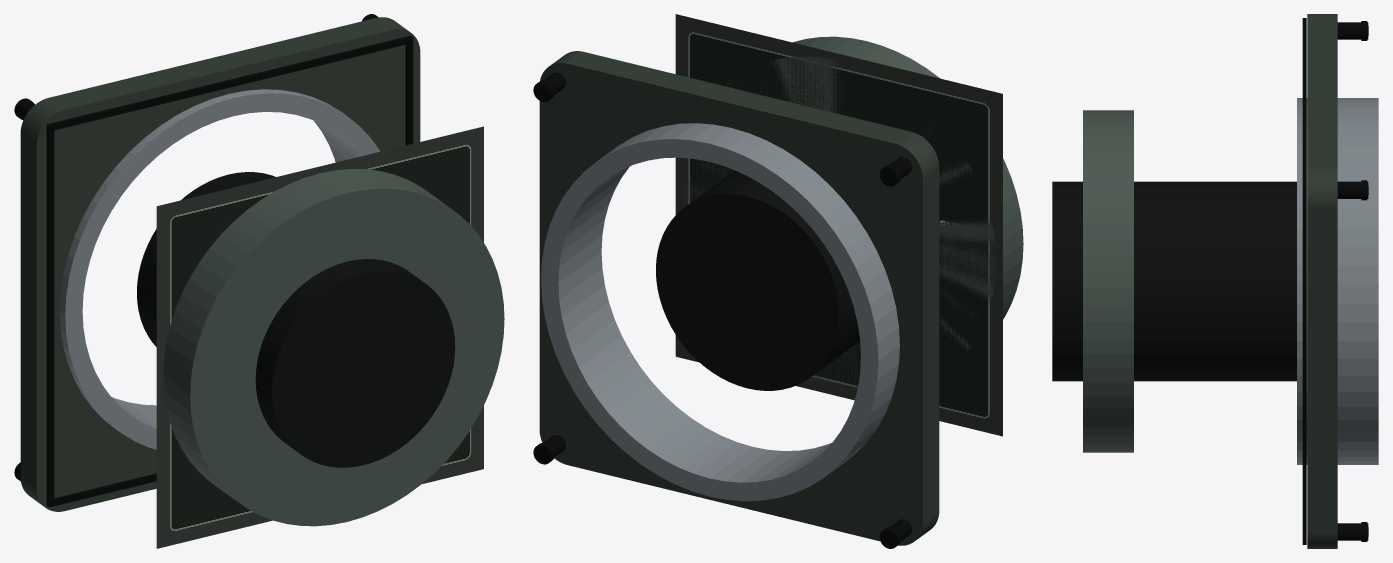
The model's file is MFDStudio.obj.
3 views of the same model, side by side, from view 1: azimuth 30°, elevation 25°; view 2: azimuth 150°, elevation 25°; view 3: azimuth 270°, elevation 25° (orthographic). The views are drawn at different scales.
Parts seen in each view (by area): view 1: MFDStudioActuator, MFDStudioBody, MFDStudioMount, MFDStudioScreen; view 2: MFDStudioMount, MFDStudioBody, MFDStudioScreen, MFDStudioActuator, MFDStudioScrews; view 3: MFDStudioMount, MFDStudioBody, MFDStudioActuator, MFDStudioScrews.
Part boxes in pixels (x1,y1,x2,y2): MFDStudioActuator: (163, 169, 504, 526); MFDStudioBody: (20, 17, 420, 511); MFDStudioMount: (60, 89, 455, 467); MFDStudioScreen: (156, 126, 483, 548); MFDStudioMount: (541, 123, 899, 501); MFDStudioBody: (539, 51, 939, 545); MFDStudioScreen: (675, 14, 1002, 436); MFDStudioActuator: (682, 36, 1023, 392); MFDStudioScrews: (533, 72, 912, 548); MFDStudioMount: (1052, 98, 1378, 464); MFDStudioBody: (1302, 14, 1337, 548); MFDStudioActuator: (1083, 110, 1133, 452); MFDStudioScrews: (1337, 21, 1368, 541).
Size of the model in its own units: 0.041 by 0.041 by 0.032.
Materials: 8 (1 with a texture image).
